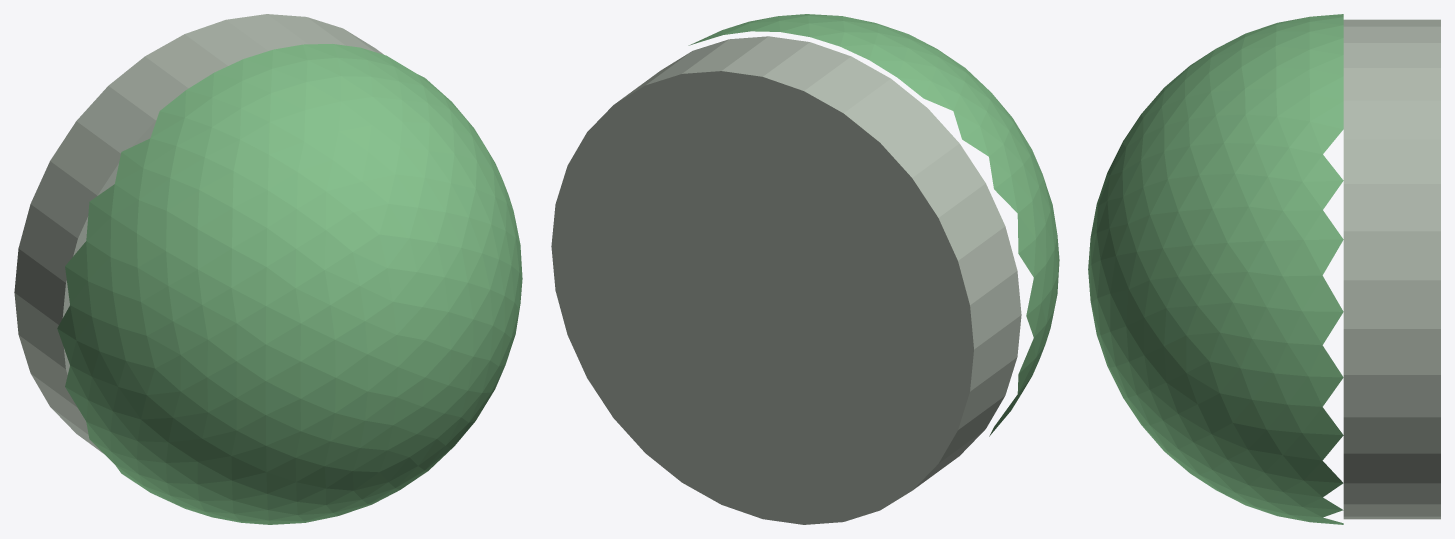
The model's file is greenhouse.glb.
3 renders of one model, left to right at view 1: azimuth 30°, elevation 25°; view 2: azimuth 150°, elevation 25°; view 3: azimuth 270°, elevation 25°, orthographic. The views are drawn at different scales.
Parts seen in each view (by area): view 1: geometry_1, geometry_0; view 2: geometry_0, geometry_1; view 3: geometry_1, geometry_0.
Part boxes in pixels (x1=…): geometry_1: x1=57, y1=44, x2=522, y2=524; geometry_0: x1=14, y1=14, x2=383, y2=453; geometry_0: x1=551, y1=36, x2=1021, y2=524; geometry_1: x1=688, y1=14, x2=1059, y2=436; geometry_1: x1=1088, y1=14, x2=1343, y2=524; geometry_0: x1=1343, y1=19, x2=1440, y2=519.
Bounding box in the file's own units: 1.84 × 1.84 × 1.27.
